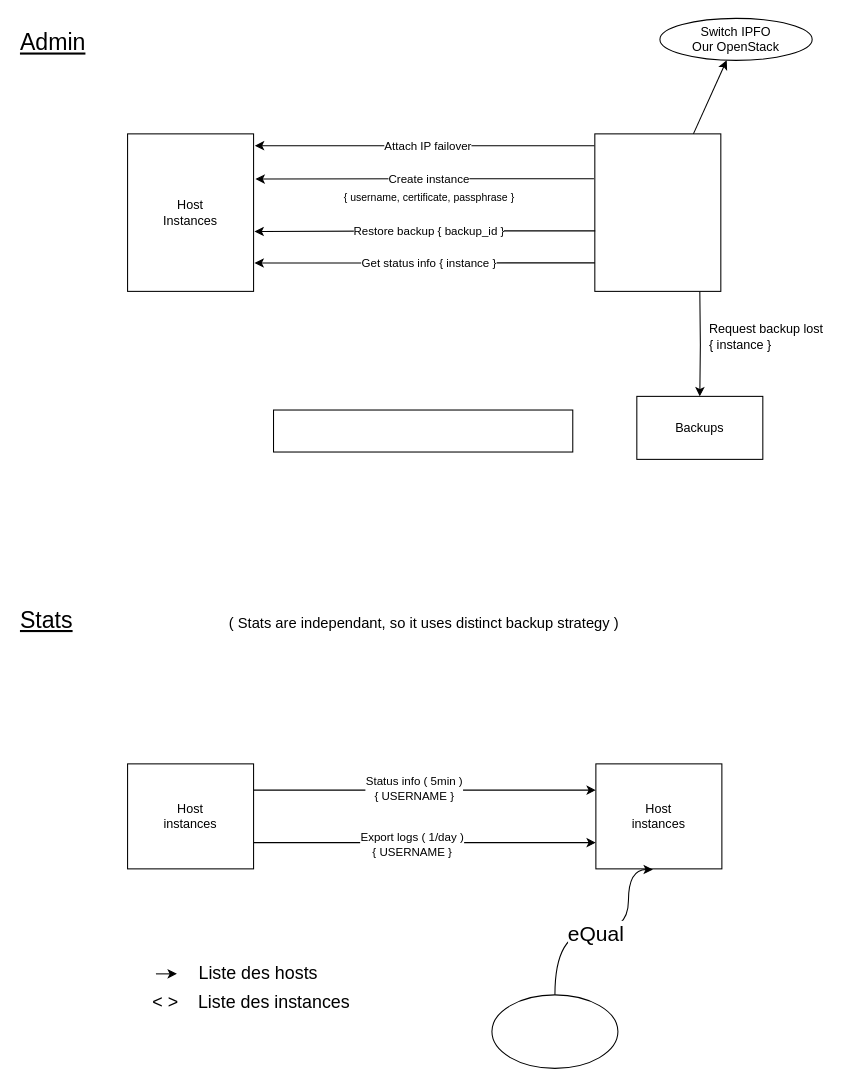
Some shapes in this 852 by 1087 pixel diagram are drawn without their labels. Here are the shapes that lost their labels. From the top down, the centre of each, then its label:
point 657,212: Admin Host ( instances config )
point 422,430: Private network
point 554,1031: ? Alert
